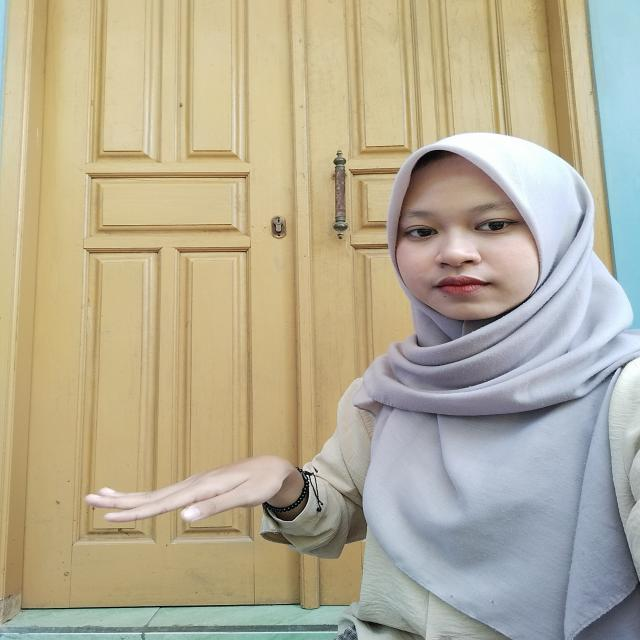adik: (65, 457, 332, 523)
